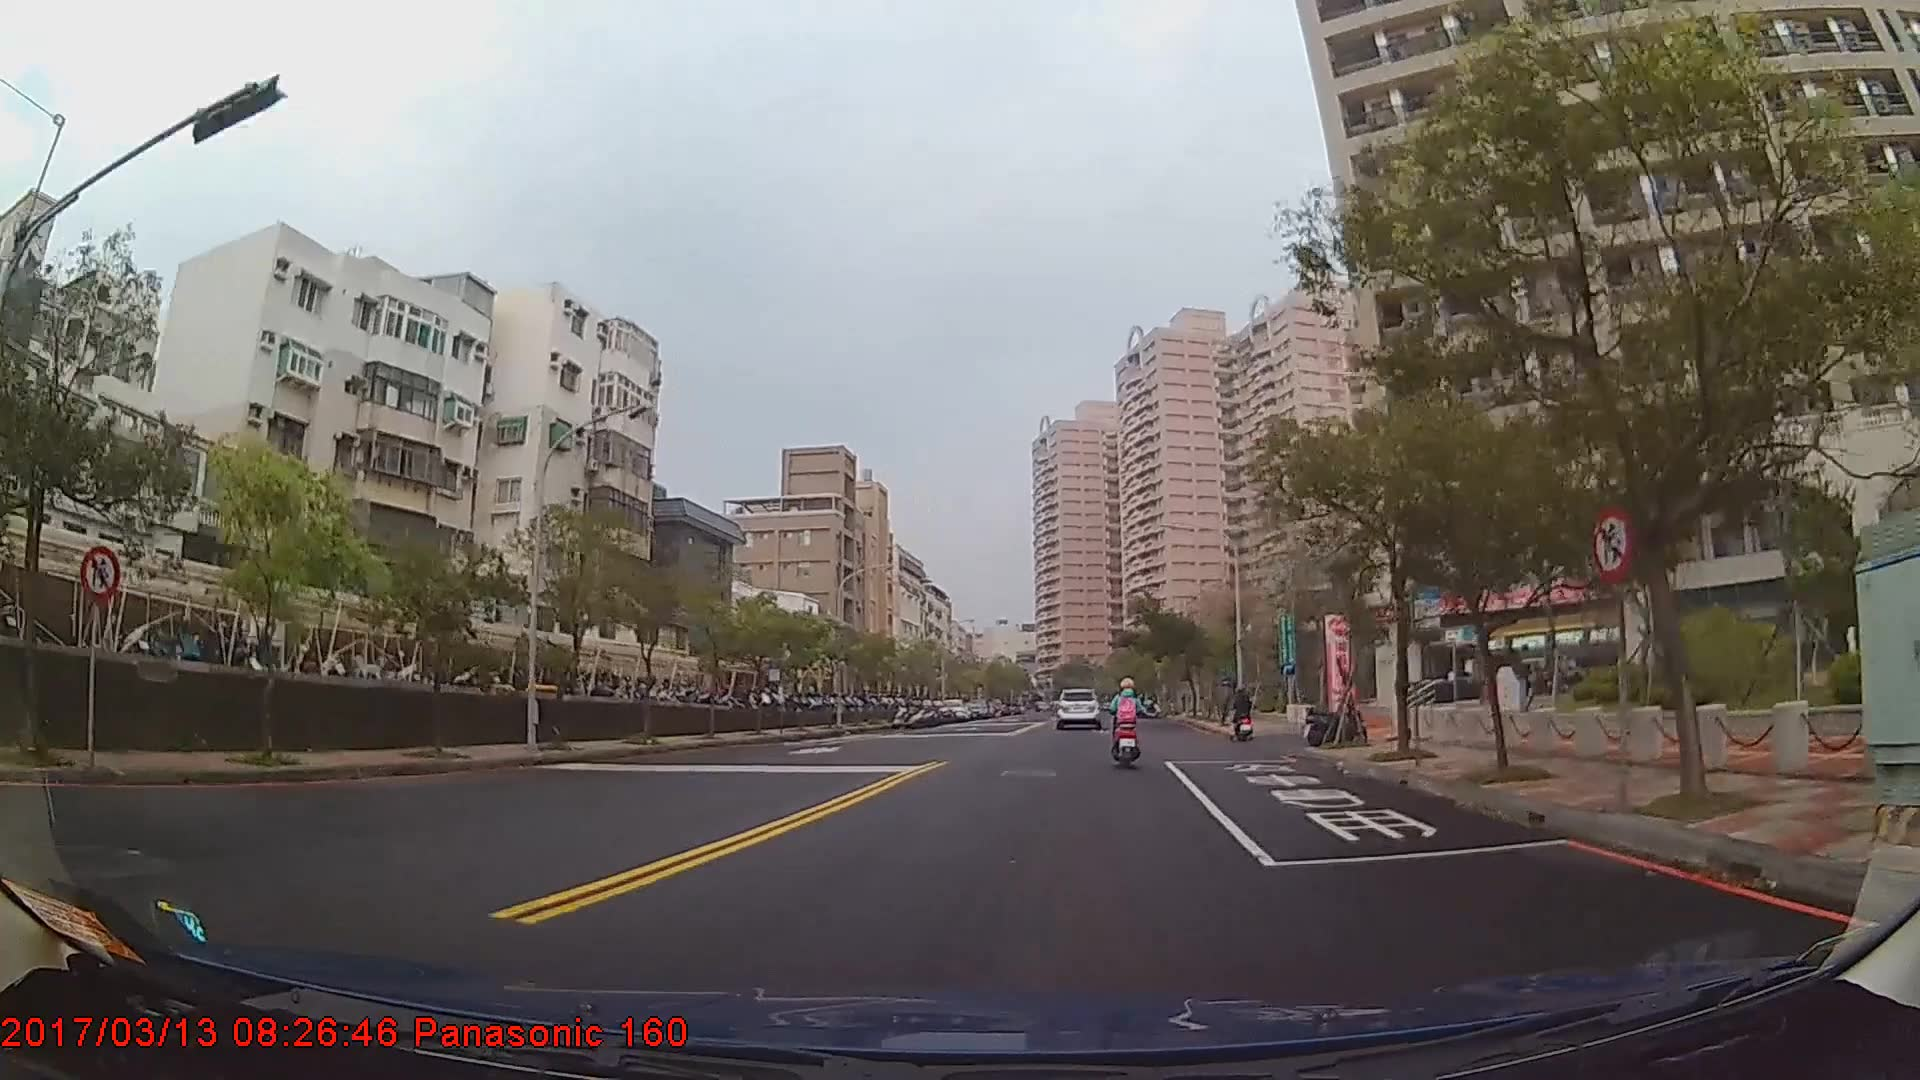rider: (1109, 677, 1154, 763), (1234, 691, 1255, 745)
vehicle: (1055, 683, 1098, 728)
